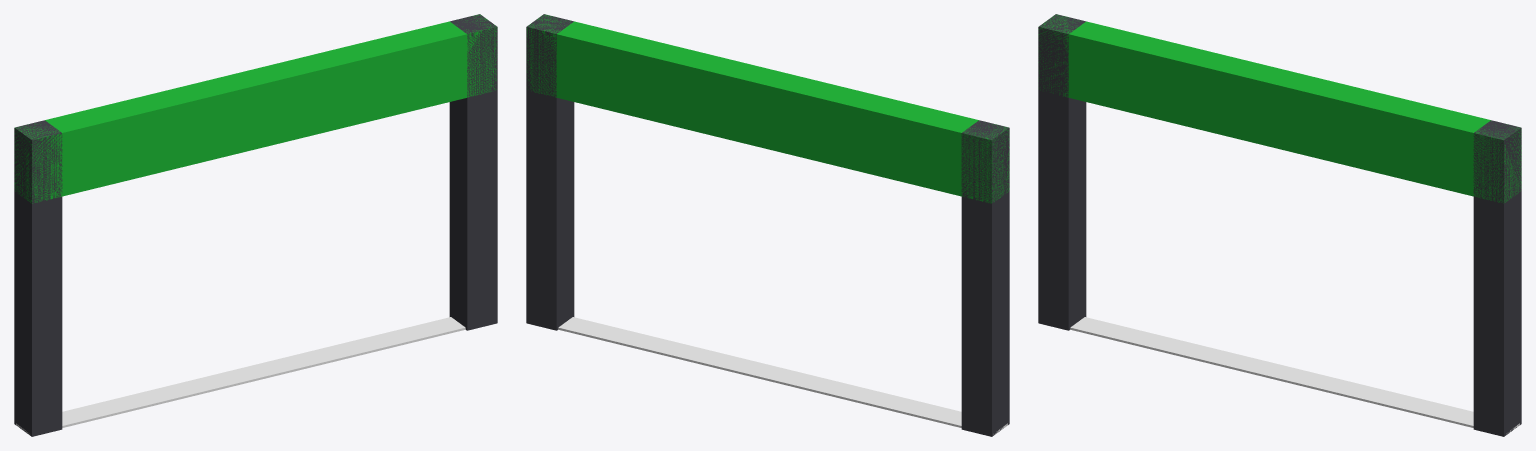
Rendered from StartGate.fbx.
3 renders of one model, left to right at view 1: azimuth 30°, elevation 25°; view 2: azimuth 150°, elevation 25°; view 3: azimuth 330°, elevation 25°, orthographic.
Visible parts, largest first — view 1: StartGate; view 2: StartGate; view 3: StartGate.
Part boxes in pixels (x1,y1,x2,y2): StartGate: (14,14,497,436); StartGate: (526,14,1009,436); StartGate: (1038,14,1521,436).
Size of the model in its own units: 9.2 by 5.6 by 0.6.
